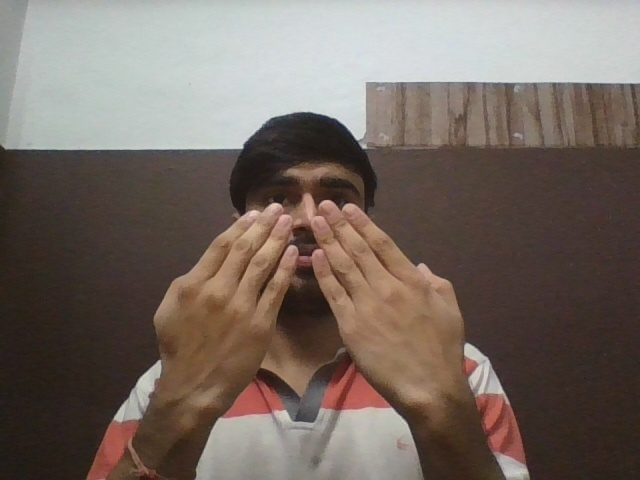Thankyou: (151, 203, 468, 402)
